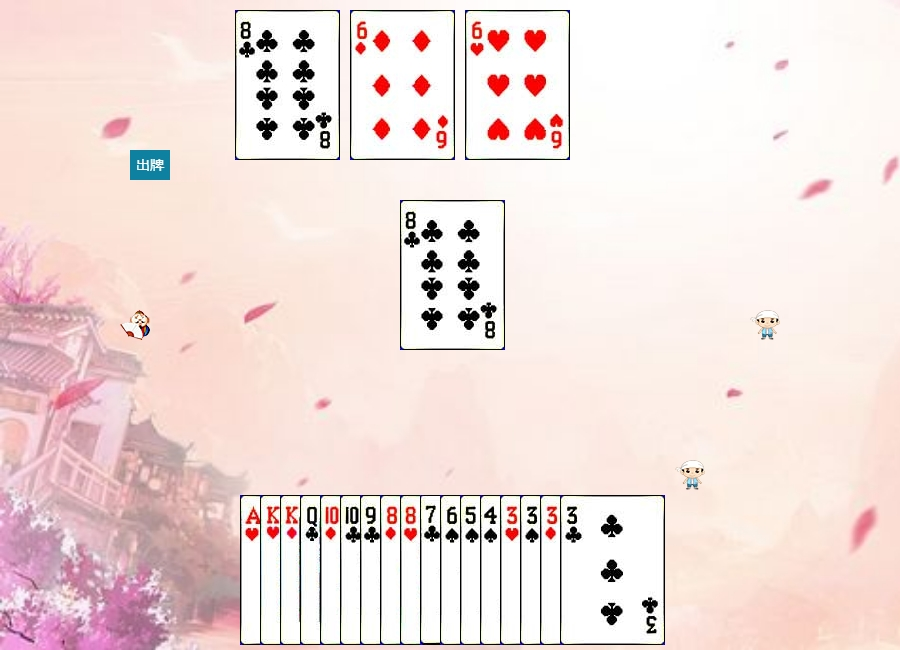10~1: (320, 495, 425, 645)
10~2: (340, 495, 445, 645)
12~2: (300, 495, 405, 645)
13~1: (280, 495, 385, 645)
13~3: (260, 495, 365, 645)
14~3: (240, 495, 345, 645)
3~1: (540, 495, 645, 645)
3~2: (560, 495, 665, 645)
3~3: (500, 495, 605, 645)
3~4: (520, 495, 625, 645)
4~4: (480, 495, 585, 645)
5~4: (460, 495, 565, 645)
6~1: (350, 10, 455, 160)
6~3: (465, 10, 570, 160)
6~4: (440, 495, 545, 645)
7~2: (420, 495, 525, 645)
8~1: (380, 495, 485, 645)
8~2: (235, 10, 340, 160), (400, 200, 505, 350)
8~3: (400, 495, 505, 645)
9~2: (360, 495, 465, 645)
